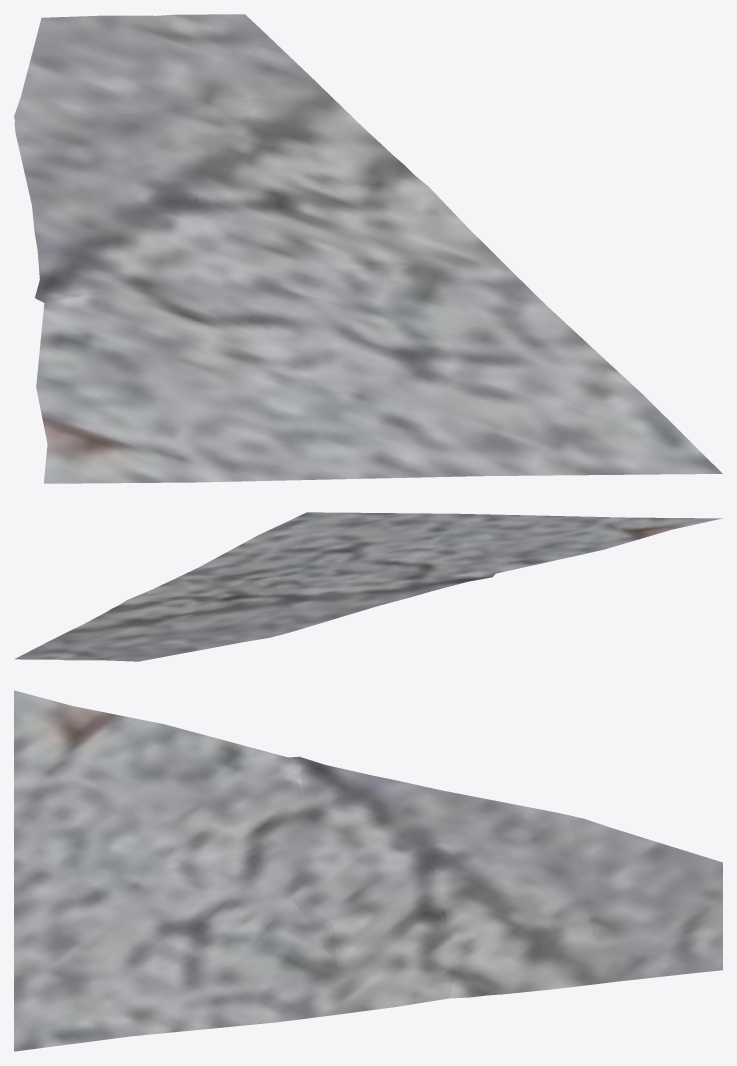
3 renders of one model, top to bottom at view 1: azimuth 30°, elevation 25°; view 2: azimuth 150°, elevation 25°; view 3: azimuth 270°, elevation 25°, orthographic. The views are drawn at different scales.
Bounding box in the file's own units: 0.6869 × 0.1506 × 0.8373.
Materials: 2 (2 with a texture image).
